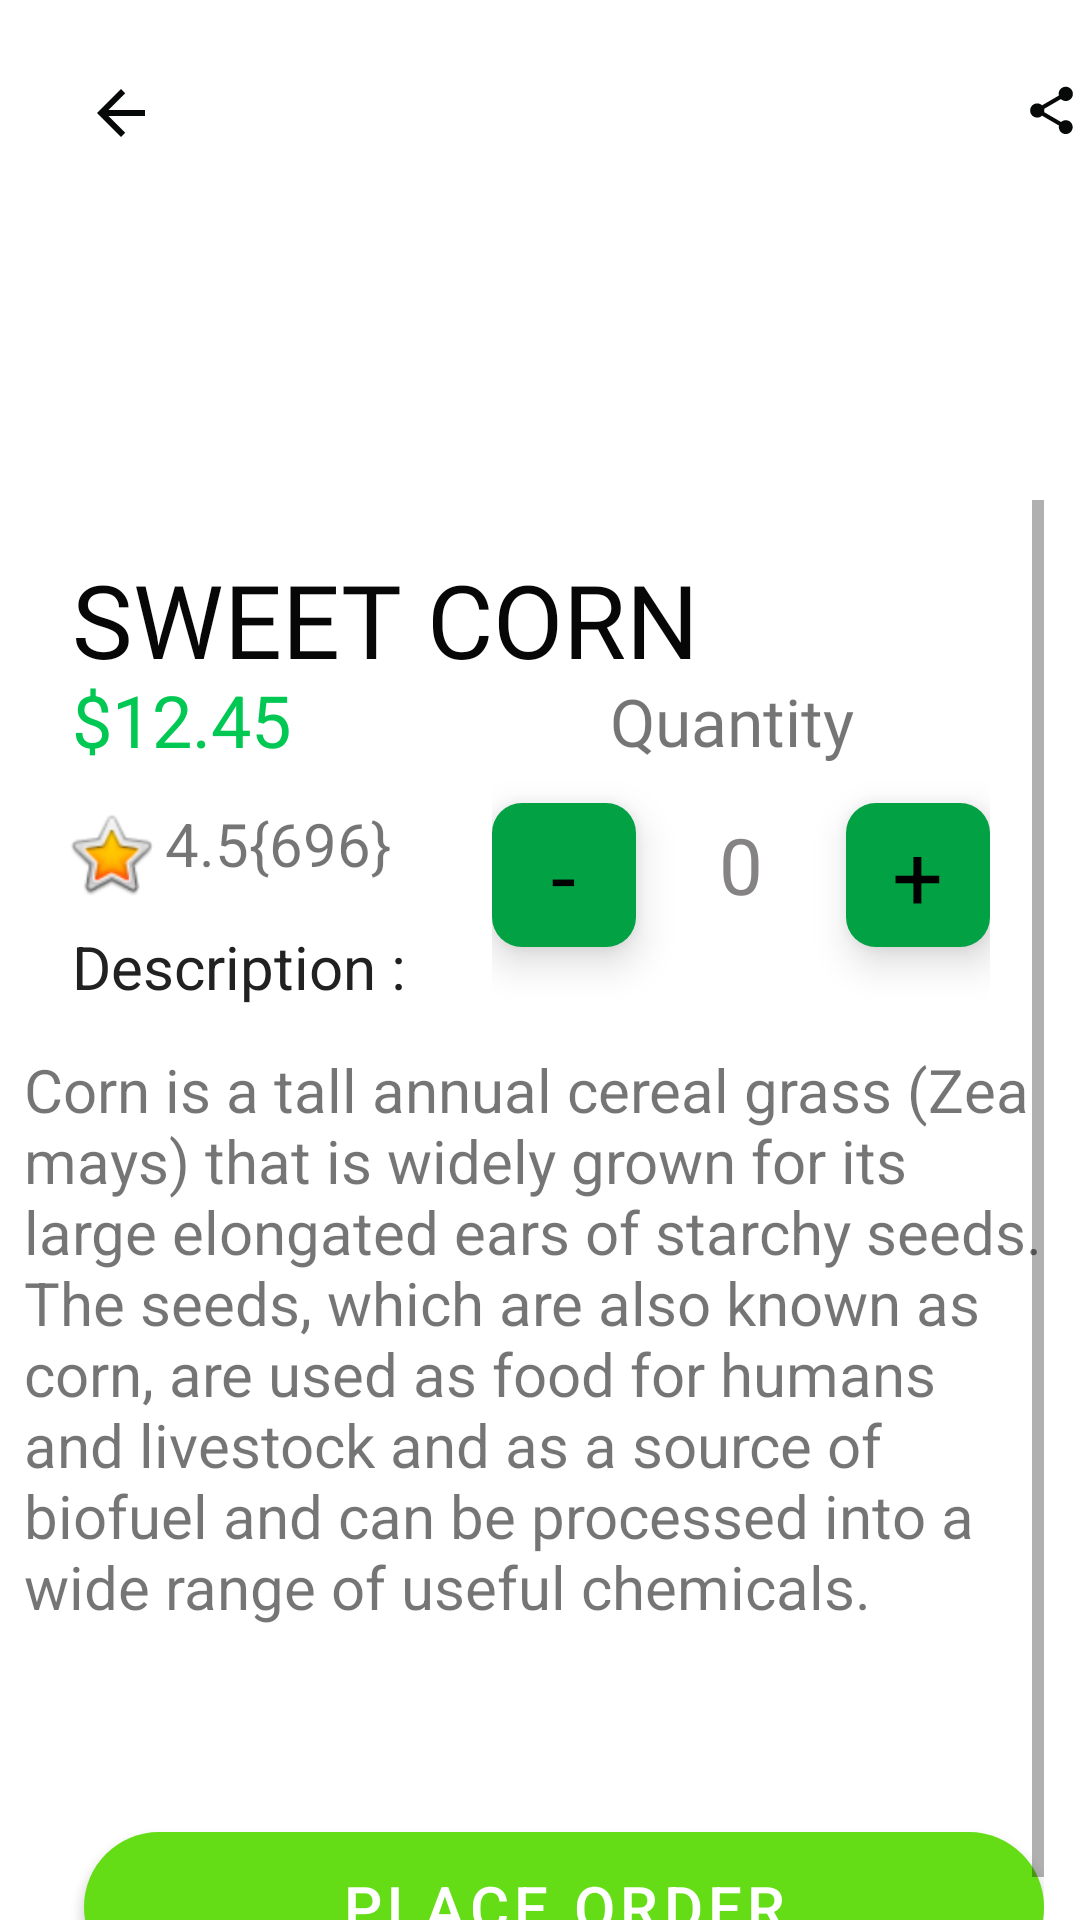

Screen size 1080 x 1920. Icon name, then its box in pixels as box(x1, y1, x2, y2):
star on: box(72, 816, 152, 894)
